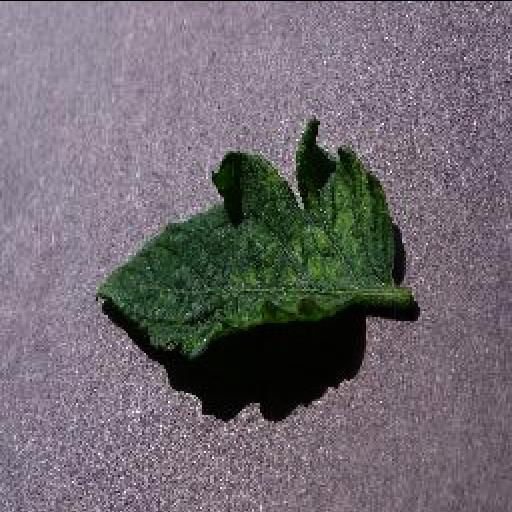disease_tomato: (94, 114, 398, 356)
